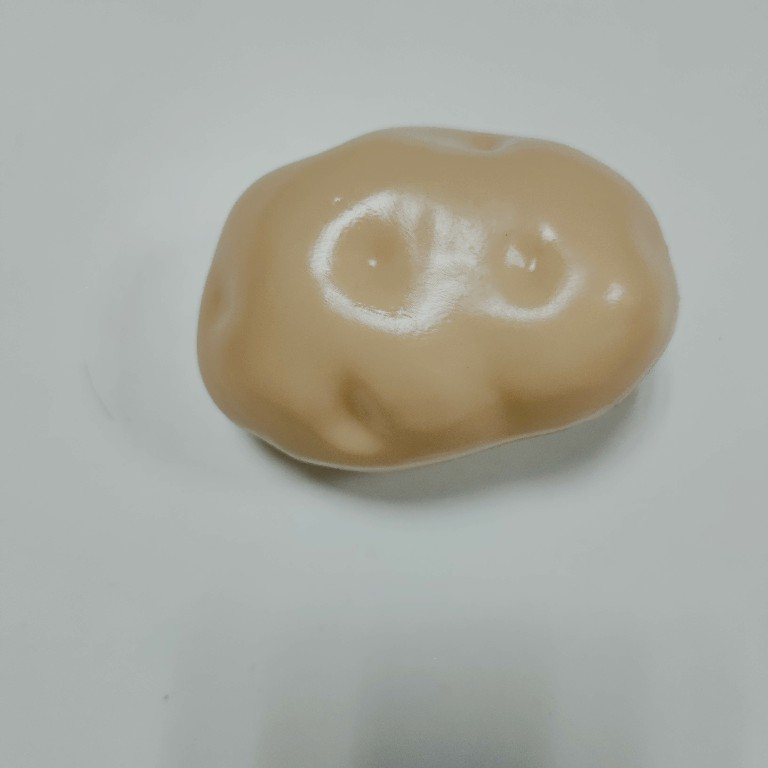fruit_potato: (189, 119, 685, 481)
